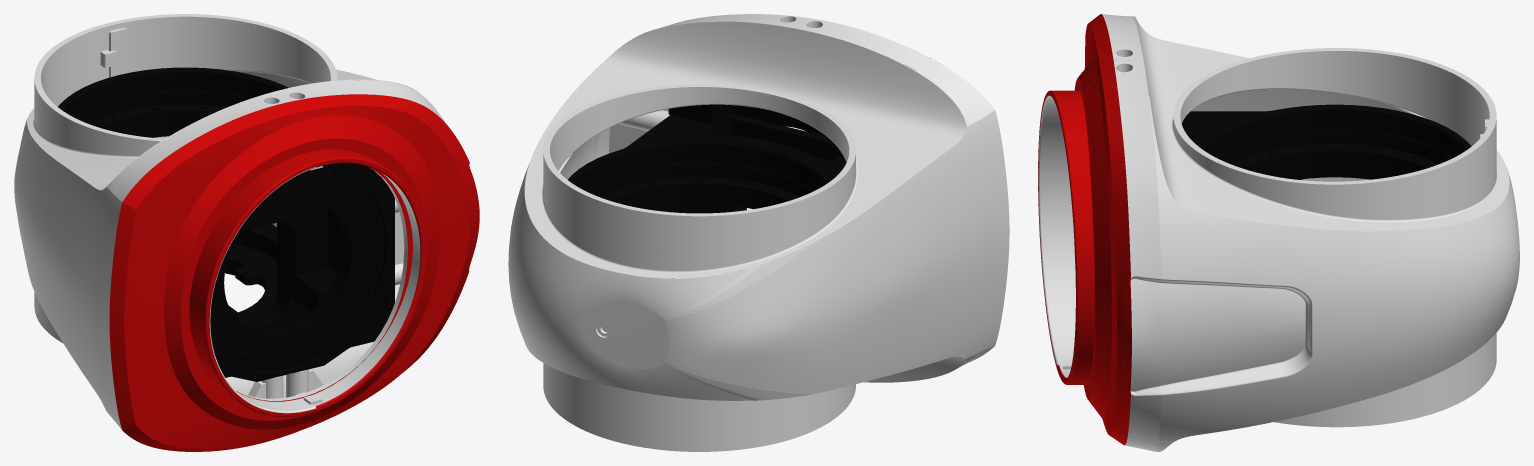
3 views of the same model, side by side, from view 1: azimuth 30°, elevation 25°; view 2: azimuth 150°, elevation 25°; view 3: azimuth 270°, elevation 25° (orthographic). The views are drawn at different scales.
Parts seen in each view (by area): view 1: link3; view 2: link3; view 3: link3.
Boxes of the visible parts, x1,y1,x2,y2 form: link3: (14,14,479,451); link3: (508,14,1009,451); link3: (1038,14,1519,451).
Size of the model in its own units: 0.2411 by 0.199 by 0.2439.
